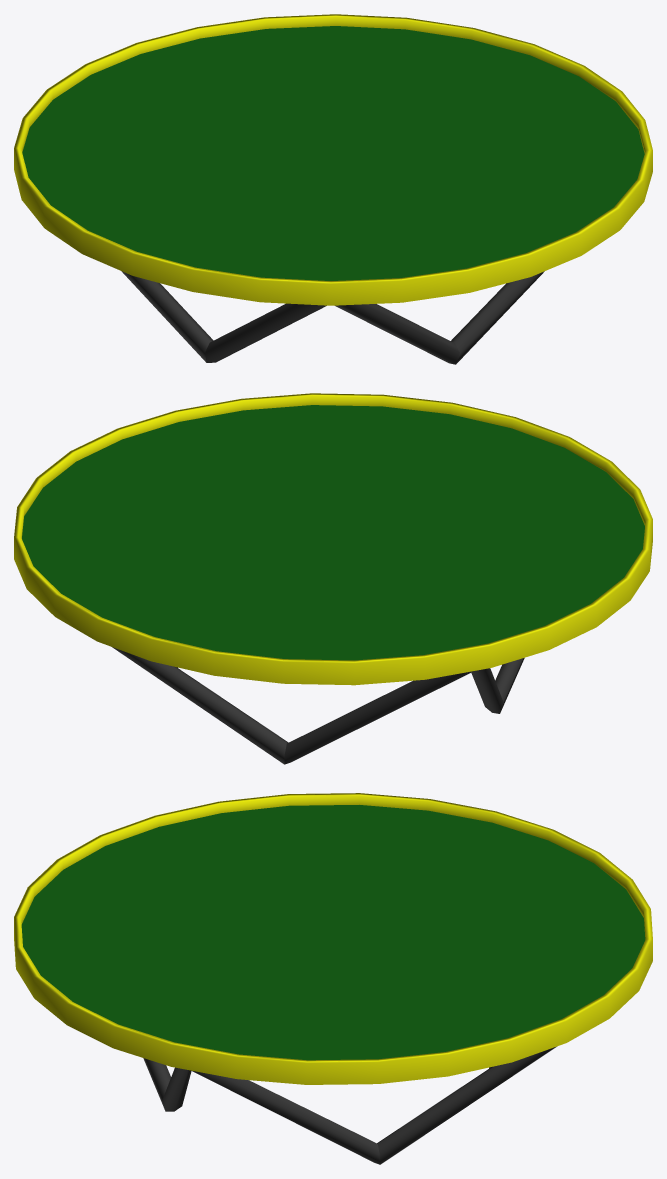
The model's file is SM_CoffeeTable_LP.fbx.
3 renders of one model, top to bottom at view 1: azimuth 30°, elevation 25°; view 2: azimuth 150°, elevation 25°; view 3: azimuth 270°, elevation 25°, orthographic.
Parts seen in each view (by area): view 1: CoffeeTable_LP; view 2: CoffeeTable_LP; view 3: CoffeeTable_LP.
Part boxes in pixels (box(x1,y1,x2,y2)): CoffeeTable_LP: box(14, 14, 652, 364); CoffeeTable_LP: box(14, 393, 652, 764); CoffeeTable_LP: box(14, 793, 652, 1164).
Bounding box in the file's own units: 130 × 37.22 × 130.
